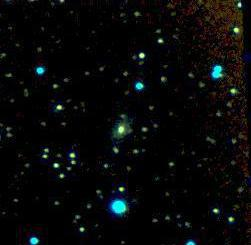star: (118, 117, 148, 147)
